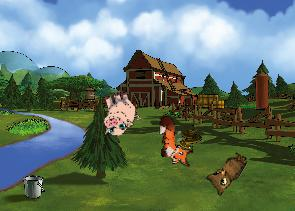fox: (158, 115, 193, 167)
owl: (201, 144, 249, 198)
pig: (94, 87, 142, 138)
